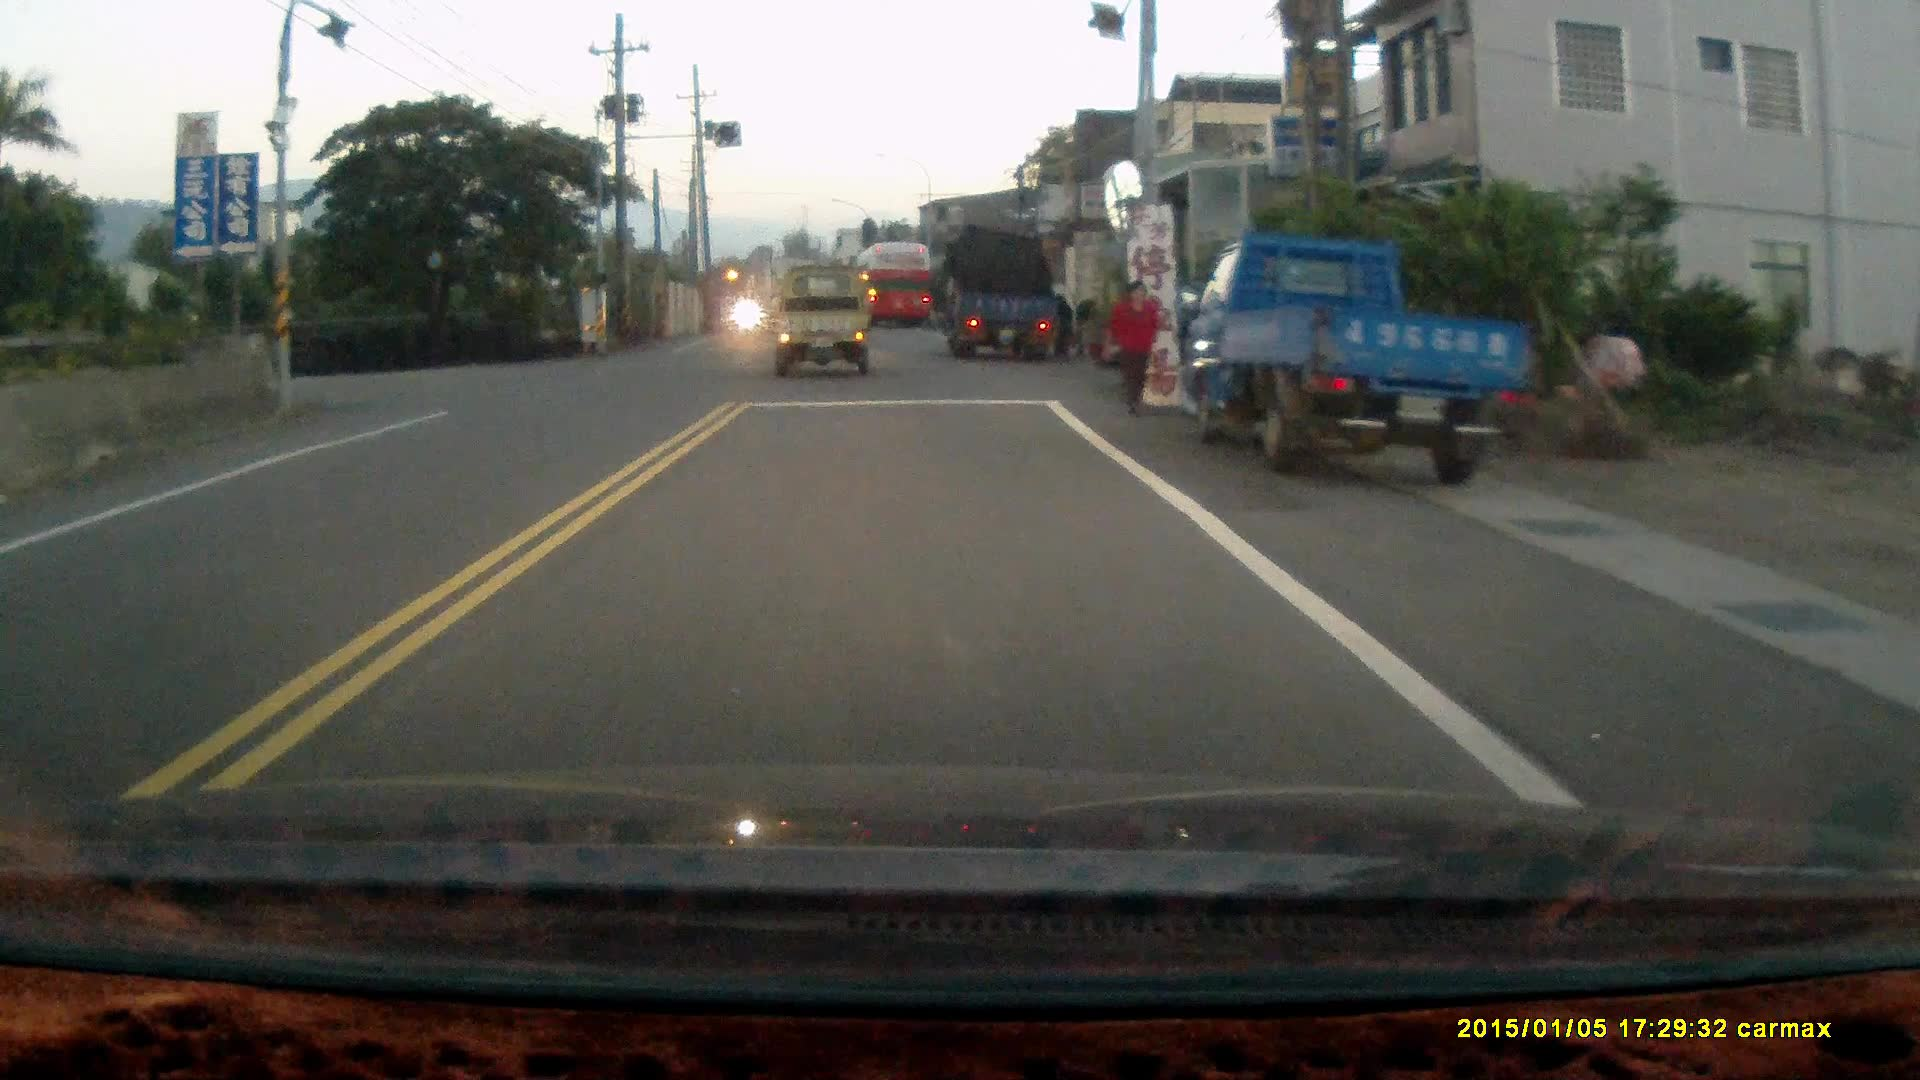pedestrian: (1104, 277, 1161, 419)
rider: (732, 286, 760, 341)
vehicle: (1183, 231, 1543, 484), (944, 231, 1067, 370), (776, 265, 878, 378), (864, 242, 951, 327)
